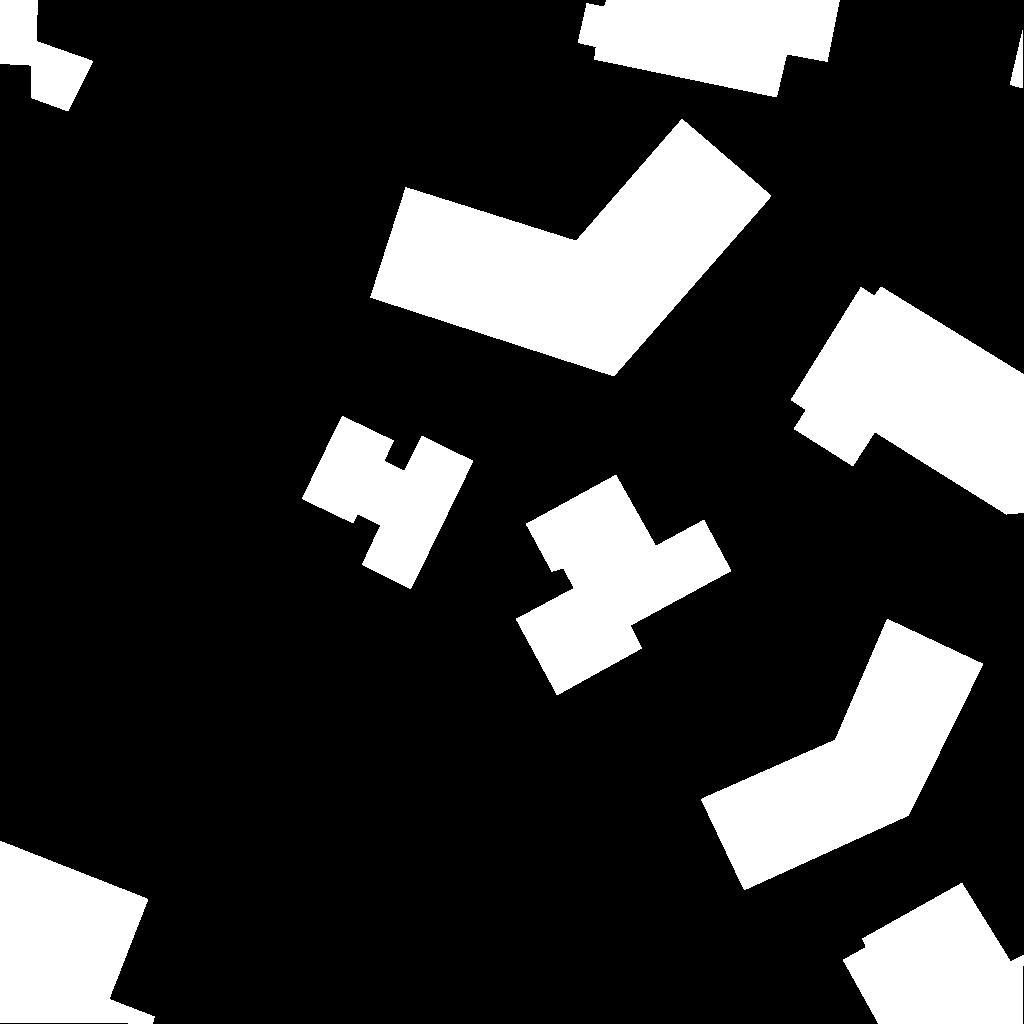building: (370, 119, 772, 377), (701, 619, 984, 891), (791, 287, 1024, 515), (516, 475, 732, 696), (302, 416, 474, 590), (0, 841, 156, 1024), (578, 0, 841, 98), (843, 883, 1024, 1024), (0, 0, 94, 112), (1010, 28, 1024, 89)
